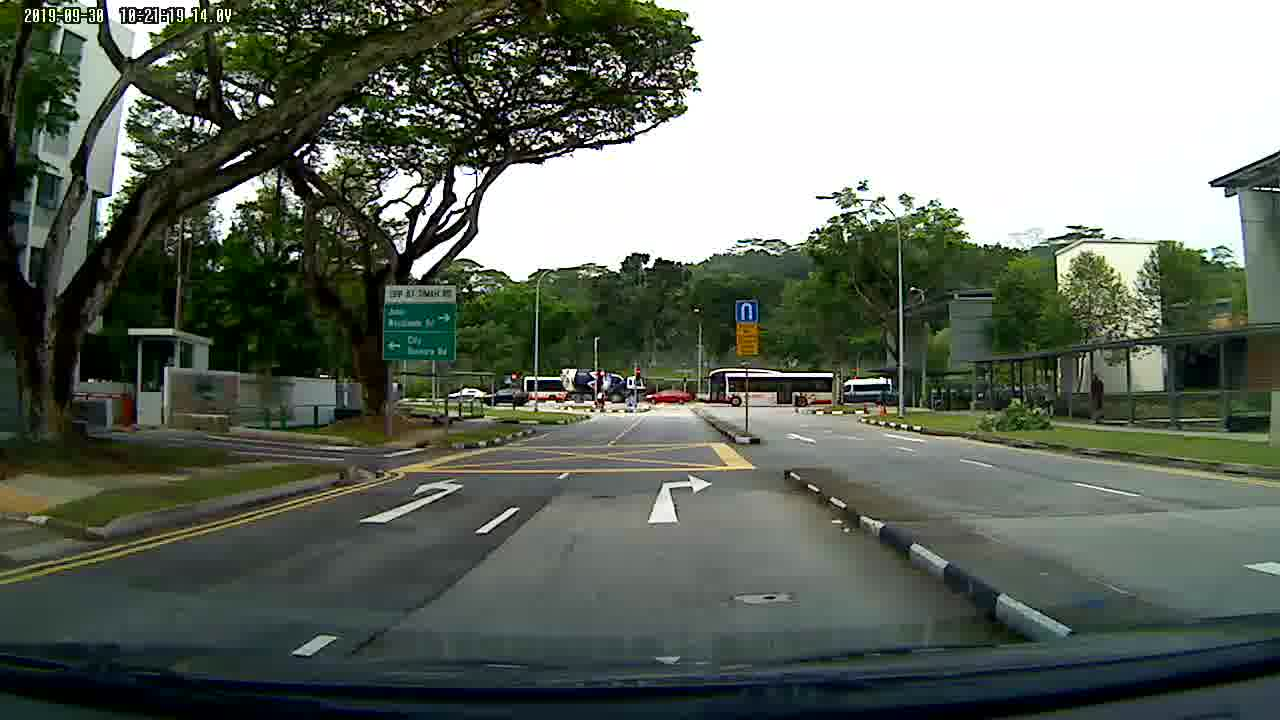bus: (698, 368, 838, 413)
car: (643, 387, 698, 407)
